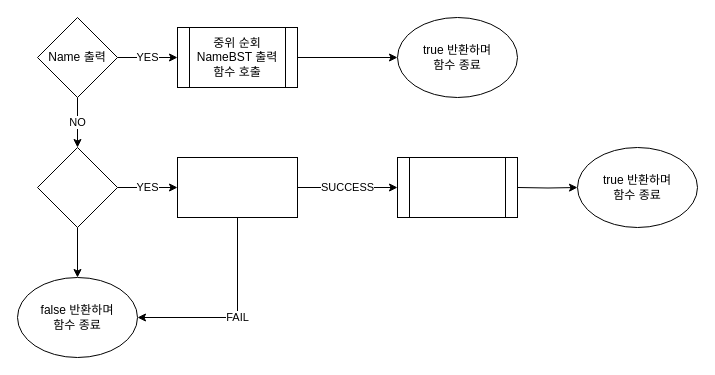
The diagram is 715 pixels wide and 375 high, and some of its shapes have lost their labels. Here are the shapes that lost their labels. From the top down, the centre of each, then its label:
At (x=77, y=187): "Term 출력".
At (x=237, y=187): "출력하고자 하는 TermList 탐색".
At (x=457, y=187): "중위 순회 TermBST 출력 함수 호출".
